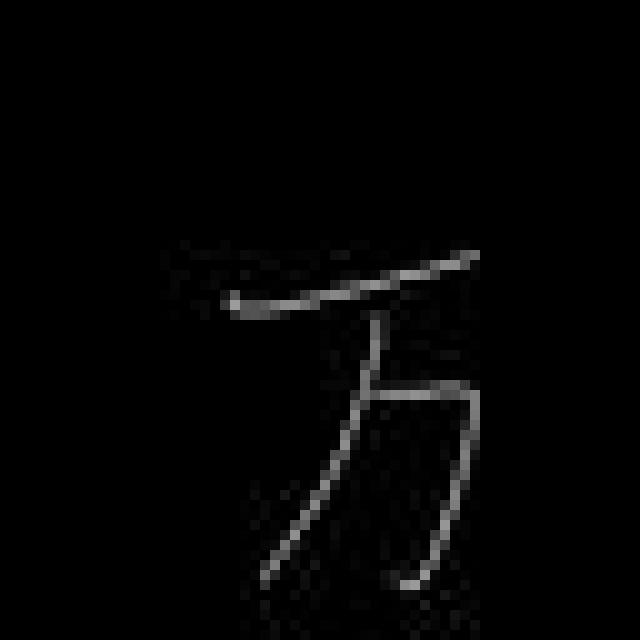10000 -a ten thousand-: (212, 232, 496, 610)
